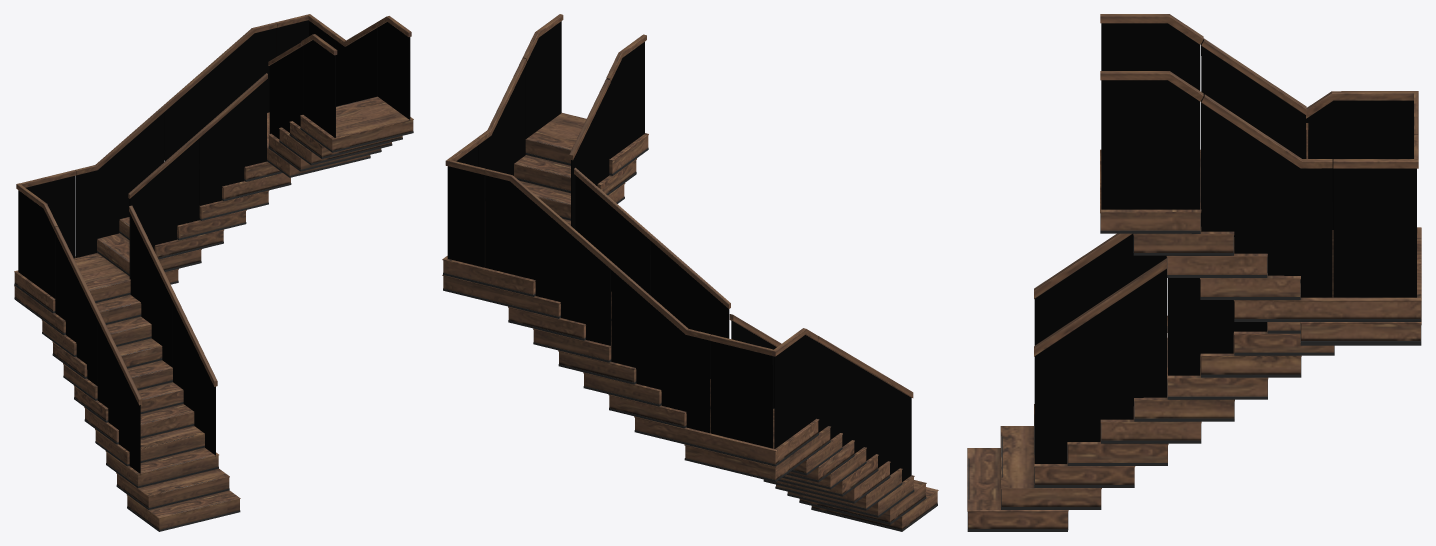
3 views of the same model, side by side, from view 1: azimuth 30°, elevation 25°; view 2: azimuth 150°, elevation 25°; view 3: azimuth 270°, elevation 25° (orthographic). The views are drawn at different scales.
Parts seen in each view (by area): view 1: glass_001, solid_001, solid_003; view 2: glass_001, solid_001, solid_003; view 3: glass_001, solid_001, solid_003.
Part boxes in pixels (x1,y1,x2,y2): glass_001: [18, 20, 410, 473]; solid_001: [14, 14, 413, 529]; solid_003: [14, 99, 413, 531]; glass_001: [447, 21, 911, 481]; solid_001: [442, 14, 938, 529]; solid_003: [443, 141, 937, 531]; glass_001: [1034, 23, 1416, 463]; solid_001: [967, 14, 1421, 528]; solid_003: [967, 160, 1421, 531].
Bounding box in the file's own units: 1.13 × 1.44 × 0.9508.
1 material, 1 textured.
